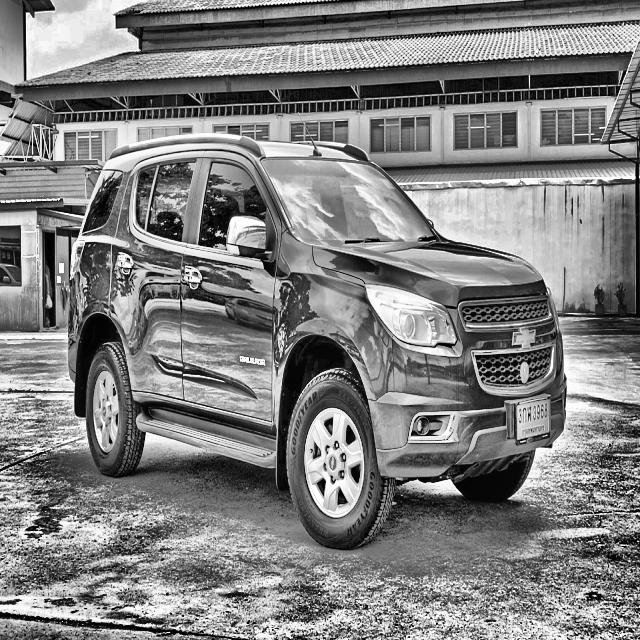license-plate: (512, 393, 554, 451)
